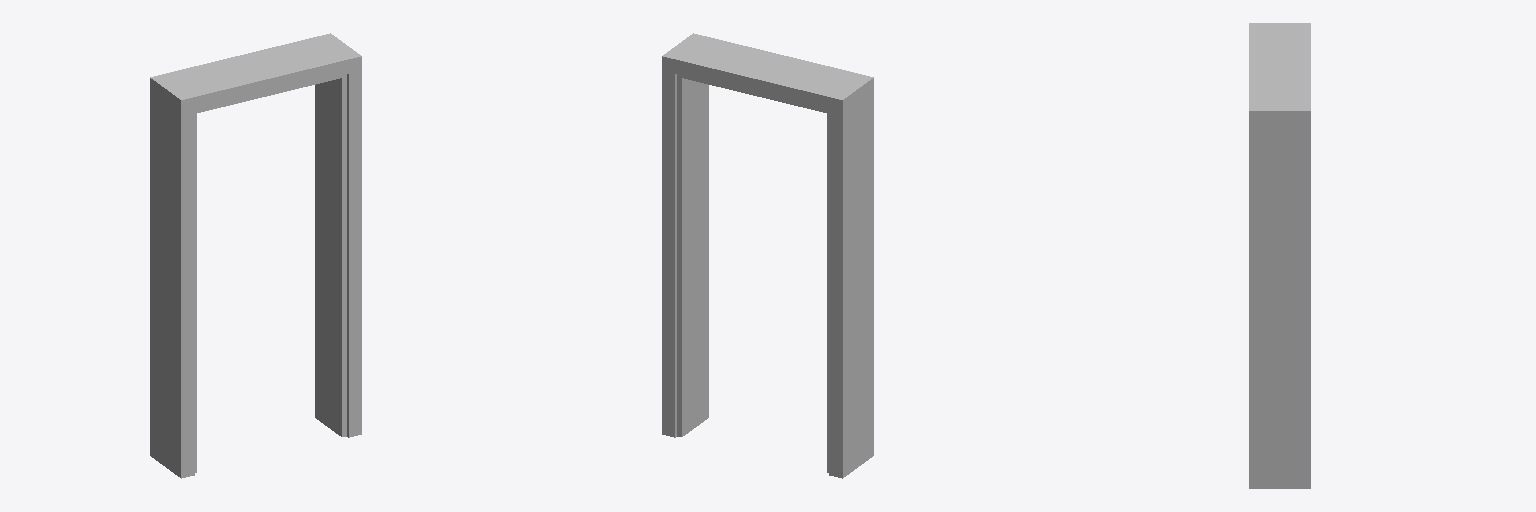
File: Structure_Exterior_Doorway.obj
3 renders of one model, left to right at view 1: azimuth 30°, elevation 25°; view 2: azimuth 150°, elevation 25°; view 3: azimuth 270°, elevation 25°, orthographic.
Visible parts, largest first — view 1: object1; view 2: object1; view 3: object1.
Part boxes in pixels (left/top/right/bottom): object1: left=150, top=33, right=361, bottom=478; object1: left=662, top=33, right=873, bottom=478; object1: left=1249, top=23, right=1310, bottom=488.
Size of the model in its own units: 1 by 2 by 0.3.